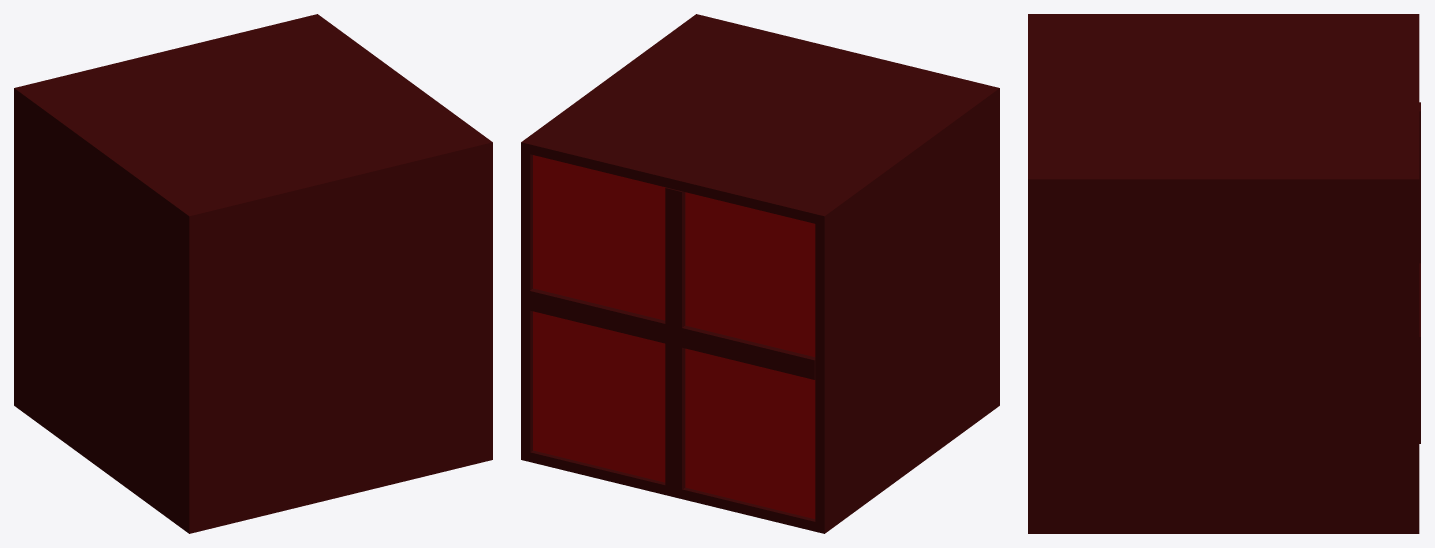
3 views of the same model, side by side, from view 1: azimuth 30°, elevation 25°; view 2: azimuth 150°, elevation 25°; view 3: azimuth 270°, elevation 25° (orthographic). The views are drawn at different scales.
Parts seen in each view (by area): view 1: Cube; view 2: Cube; view 3: Cube.
Part boxes in pixels (x1,y1,x2,y2): Cube: (14,14,492,533); Cube: (521,14,999,533); Cube: (1028,14,1420,533).
Size of the model in its own units: 200 by 200 by 201.
